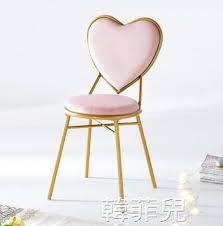chair: (34, 8, 196, 205)
